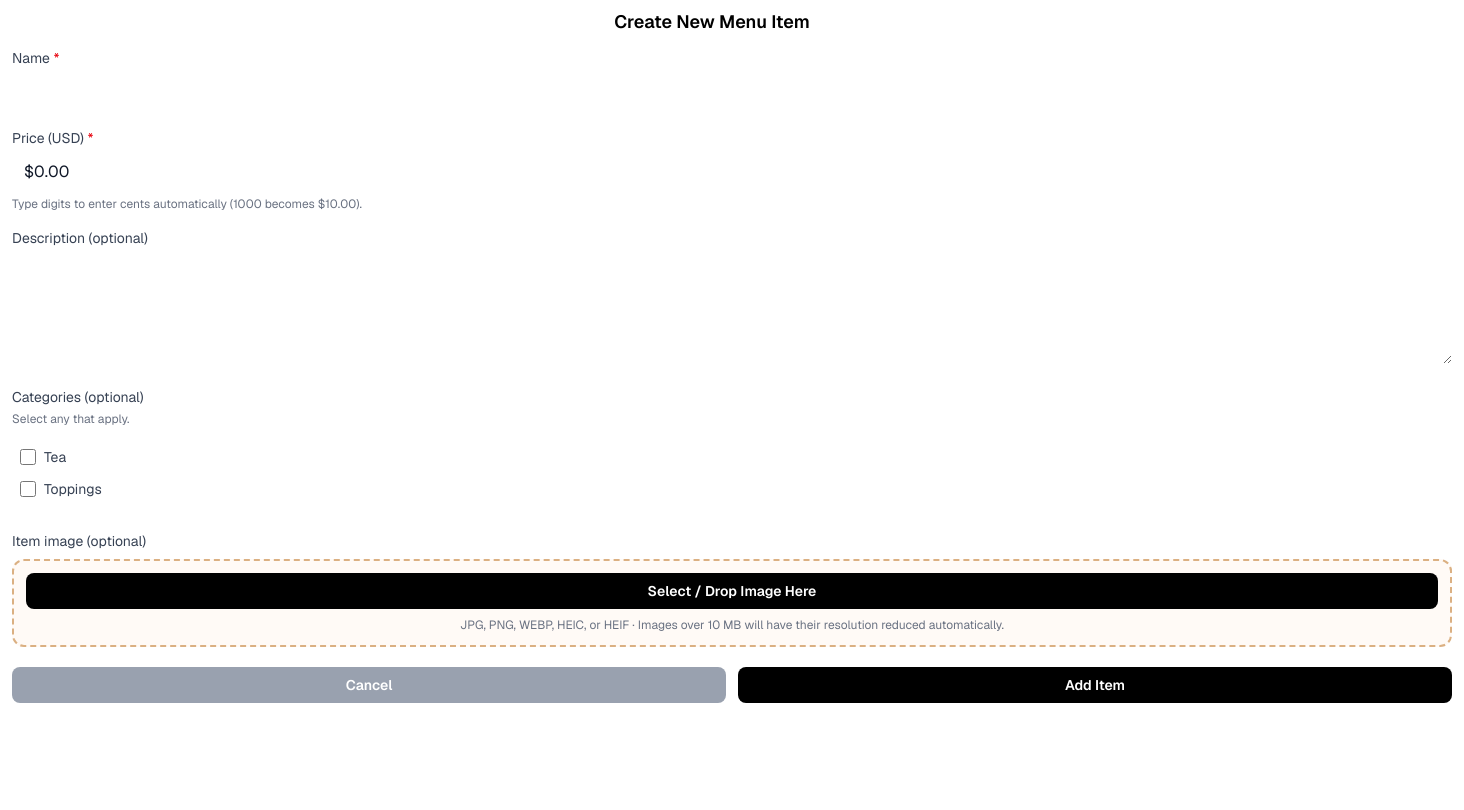
Test: Admin Menu Item Form › Create form and required fields › rejects a completely empty submission
This screenshot has width=1464, height=810.
Click the button "Add Item". click: (1095, 685)
box: x1=738 y1=667 x2=1452 y2=703
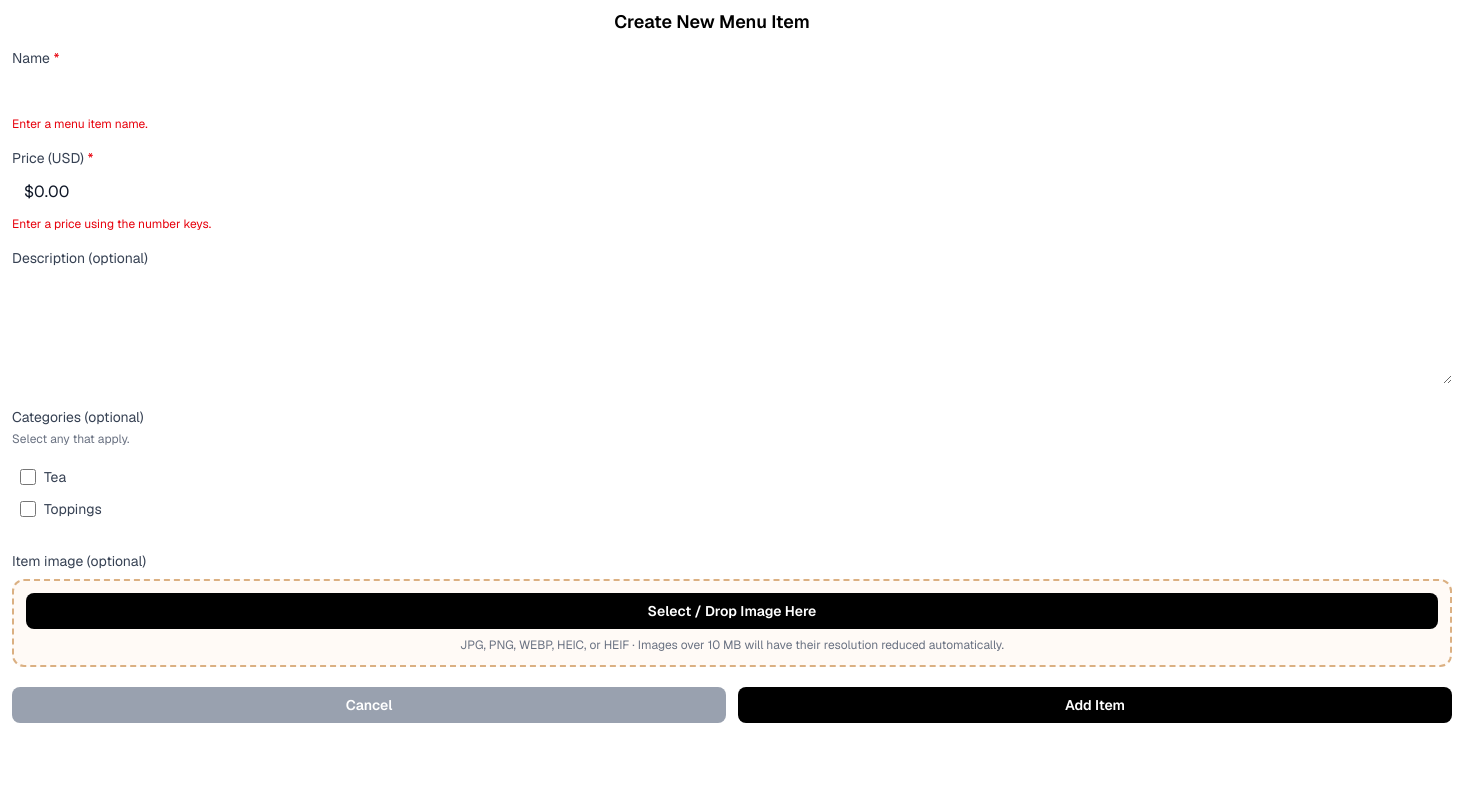
Now the text "Enter a menu item name." is shown, box x1=12 y1=116 x2=148 y2=132
Now the text "Enter a price using the number keys." is shown, box x1=12 y1=216 x2=211 y2=232
